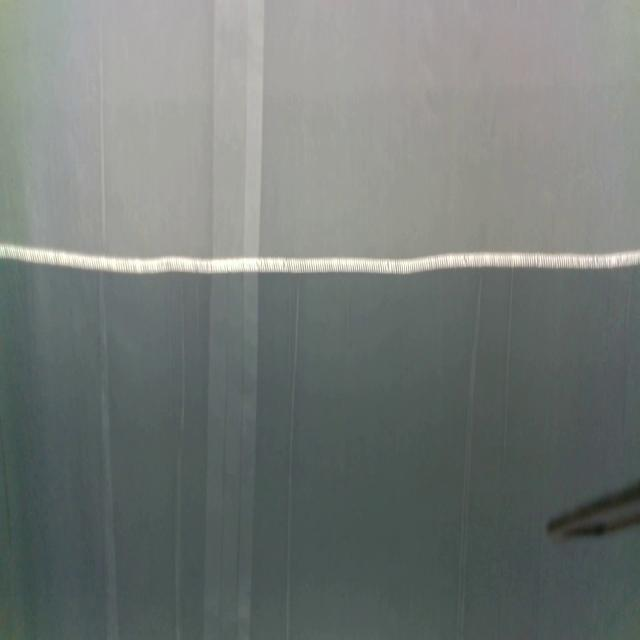crease: (202, 0, 266, 639), (98, 29, 119, 640), (456, 271, 484, 637), (284, 288, 300, 640), (172, 296, 188, 639), (502, 268, 514, 466)
